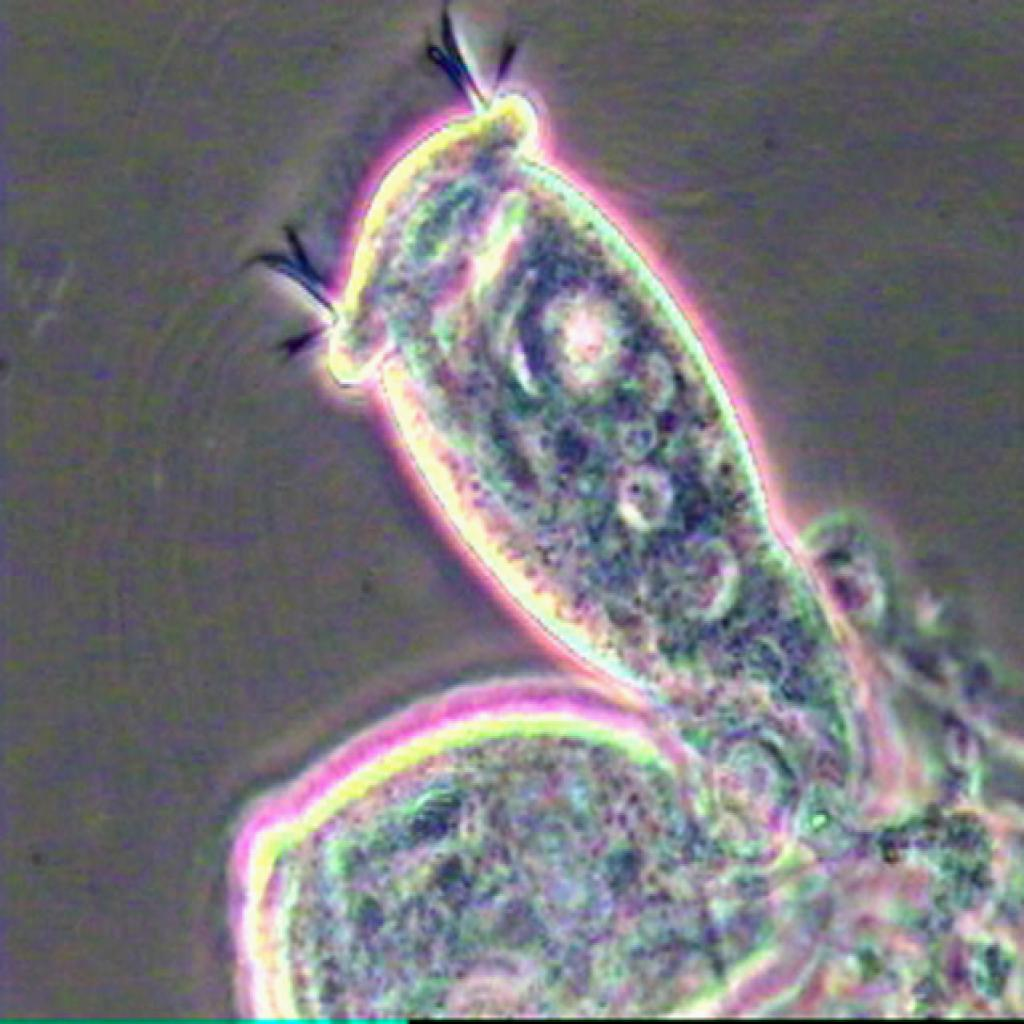Vorticella: (252, 60, 940, 727)
